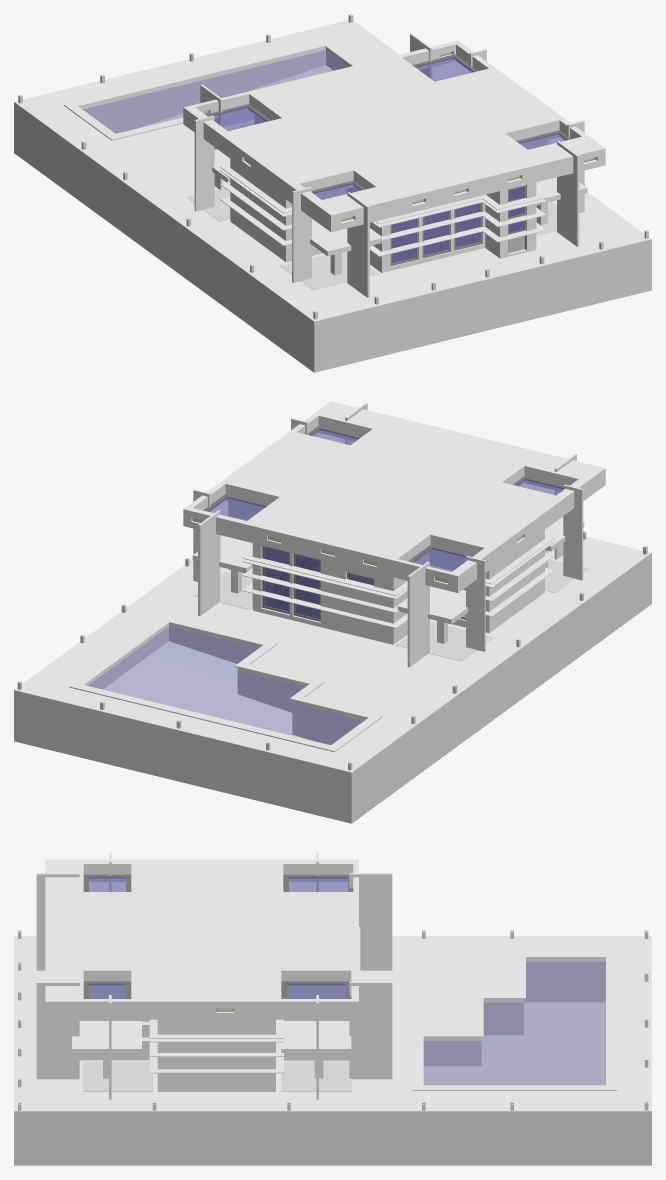
File: House.FBX
The picture shows the model from 3 angles, top to bottom: view 1: azimuth 30°, elevation 25°; view 2: azimuth 150°, elevation 25°; view 3: azimuth 270°, elevation 25°; orthographic projection. The views are drawn at different scales.
Parts seen in each view (by area): view 1: Box19, Box04, Box10, Plane02, Line01, Line11, Line12, Box31, Box09, Box13, Box24, frame (+4 smaller); view 2: Box19, Box04, Plane02, Line01, Box10, Line12, Line11, Box13, Box31, Box09, Box25, frame (+4 smaller); view 3: Box19, Box04, Plane02, Box10, Line01, Line12, Box13, Line11, Box09, Box08, Box23, frame (+2 smaller).
Part boxes in pixels (left/top/right/bottom): Box19: left=14, top=20, right=651, bottom=372; Box04: left=183, top=40, right=605, bottom=232; Box10: left=194, top=33, right=584, bottom=297; Plane02: left=83, top=50, right=347, bottom=133; Line01: left=230, top=115, right=546, bottom=270; Line11: left=220, top=124, right=552, bottom=256; Line12: left=64, top=40, right=361, bottom=140; Box31: left=392, top=187, right=523, bottom=263; Box09: left=214, top=58, right=566, bottom=199; Box13: left=187, top=188, right=581, bottom=289; Box24: left=310, top=222, right=381, bottom=256; frame: left=205, top=54, right=571, bottom=193; Box19: left=14, top=537, right=651, bottom=823; Box04: left=183, top=401, right=605, bottom=592; Plane02: left=88, top=626, right=363, bottom=744; Line01: left=228, top=502, right=544, bottom=642; Box10: left=193, top=402, right=583, bottom=667; Line12: left=69, top=616, right=382, bottom=752; Line11: left=221, top=510, right=555, bottom=628; Box13: left=192, top=559, right=587, bottom=661; Box31: left=264, top=547, right=373, bottom=618; Box09: left=208, top=429, right=563, bottom=571; Box25: left=397, top=586, right=467, bottom=624; frame: left=203, top=426, right=563, bottom=562; Box19: left=14, top=936, right=651, bottom=1165; Box04: left=45, top=859, right=358, bottom=1019; Plane02: left=424, top=962, right=605, bottom=1084; Box10: left=36, top=852, right=392, bottom=1099; Line01: left=79, top=989, right=349, bottom=1089; Line12: left=412, top=952, right=616, bottom=1090; Box13: left=83, top=1061, right=351, bottom=1091; Line11: left=43, top=927, right=360, bottom=1073; Box09: left=89, top=877, right=348, bottom=998; Box08: left=281, top=1021, right=351, bottom=1054; Box23: left=72, top=1021, right=141, bottom=1054; frame: left=83, top=874, right=353, bottom=998.
Size of the model in its own units: 47716 by 19160 by 73470.
